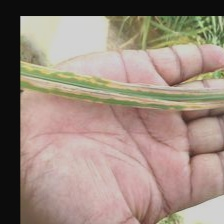Leaf_Blast: (26, 58, 224, 111)
